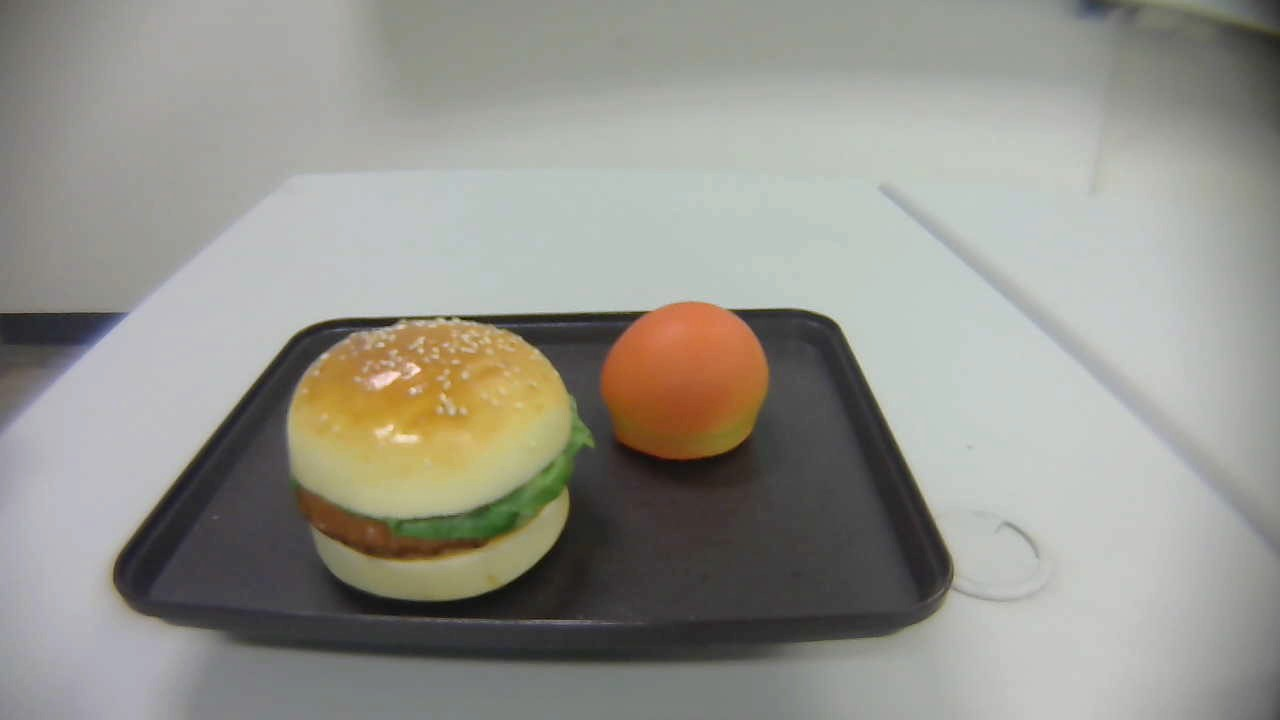bun: (599, 302, 770, 461)
hamburger: (287, 319, 595, 600)
